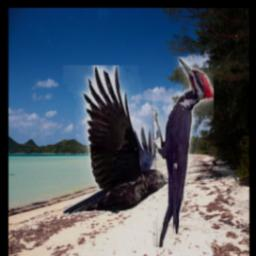Crow: (64, 65, 174, 215)
Woodpecker: (153, 56, 215, 247)
